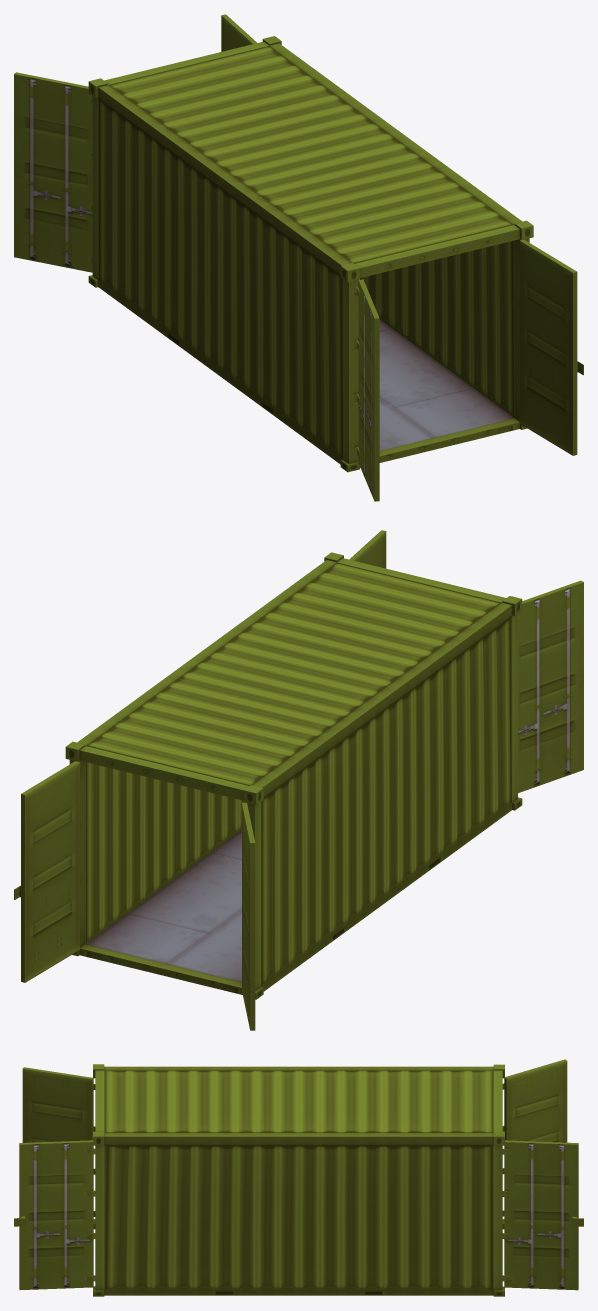
The model's file is Container01_3.FBX.
The picture shows the model from 3 angles, top to bottom: view 1: azimuth 30°, elevation 25°; view 2: azimuth 150°, elevation 25°; view 3: azimuth 270°, elevation 25°; orthographic projection. The views are drawn at different scales.
Visible parts, largest first — view 1: Container01_3; view 2: Container01_3; view 3: Container01_3.
Part boxes in pixels (left/top/right/bottom): Container01_3: left=14, top=14, right=583, bottom=501; Container01_3: left=14, top=530, right=583, bottom=1030; Container01_3: left=14, top=1059, right=583, bottom=1296.
Size of what is drawn, in the model's own units: 3.49 by 3 by 9.69.
